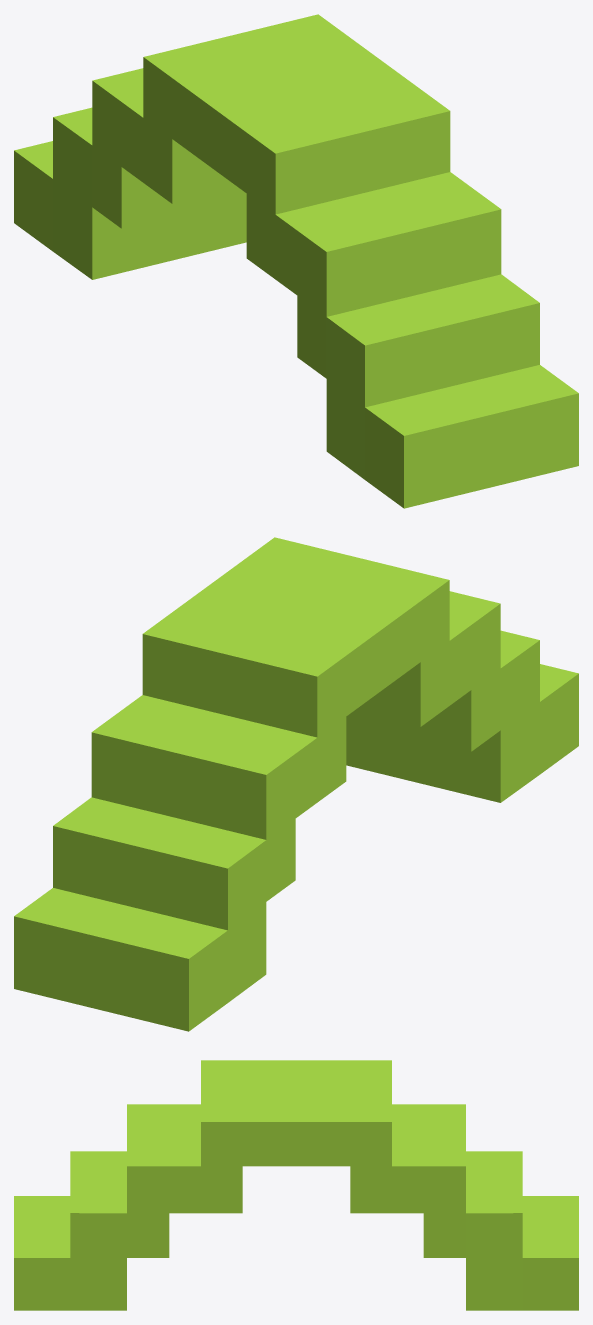
File: stairs.fbx
3 views of the same model, one above another, from view 1: azimuth 30°, elevation 25°; view 2: azimuth 150°, elevation 25°; view 3: azimuth 270°, elevation 25° (orthographic). The views are drawn at different scales.
Parts seen in each view (by area): view 1: Cube; view 2: Cube; view 3: Cube.
Boxes of the visible parts, x1=… form: Cube: x1=14, y1=14, x2=578, y2=508; Cube: x1=14, y1=537, x2=578, y2=1031; Cube: x1=14, y1=1060, x2=578, y2=1310.
Bounding box in the file's own units: 273 × 388 × 1053.
